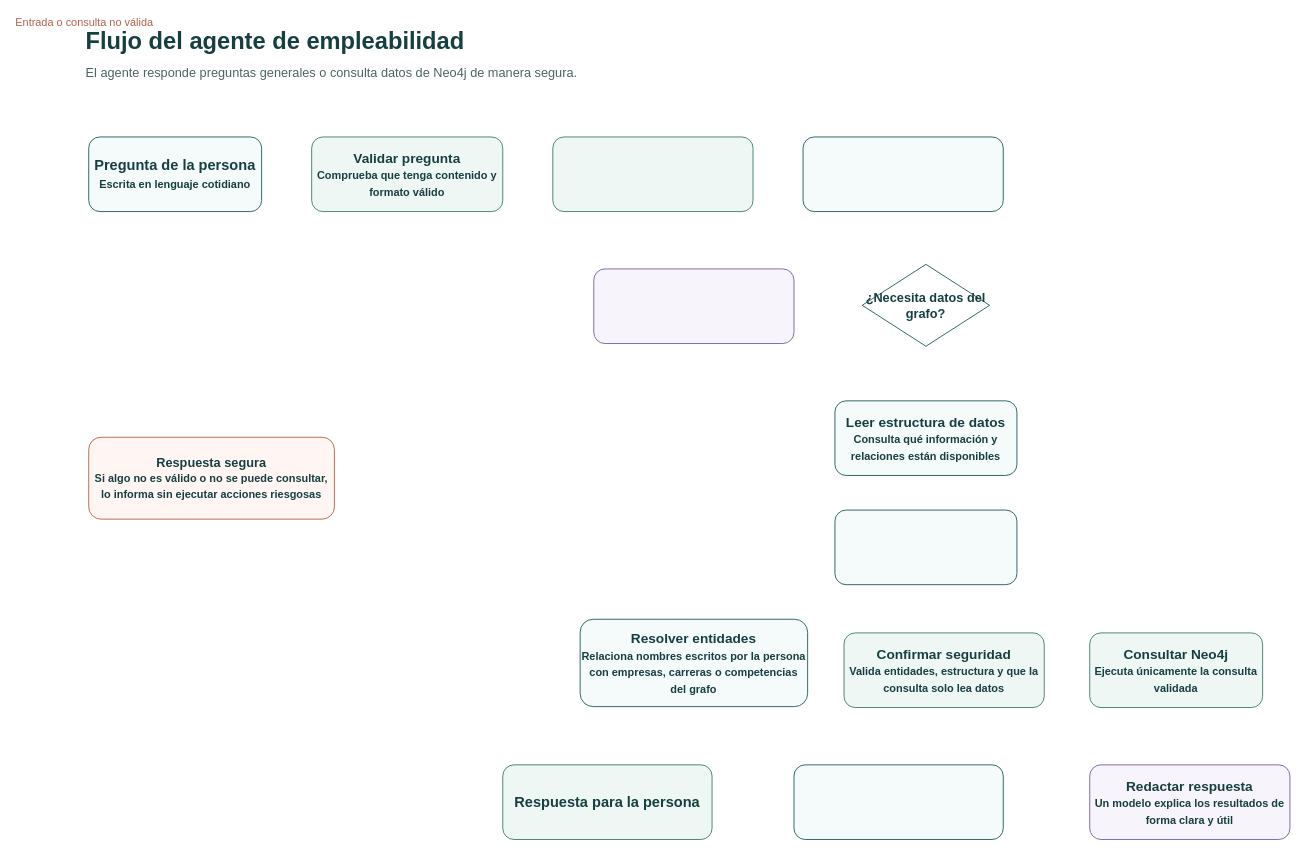
The diagram is 1306 pixels wide and 855 high, and some of its shapes have lost their labels. Each missing label, with the centre of its shape:
"Entender la intención Un modelo decide qué tipo de respuesta requiere" goes at point 902,174.
"Guardar contexto breve Conserva lo necesario para continuar la conversación" goes at point 898,801.
"Preparar consulta Un modelo transforma la pregunta en una consulta de datos" goes at point 925,547.
"Proteger la conversación Detecta instrucciones que intentan alterar al agente" goes at point 652,174.
"Respuesta directa Responde preguntas generales sin consultar Neo4j" goes at point 693,306.
